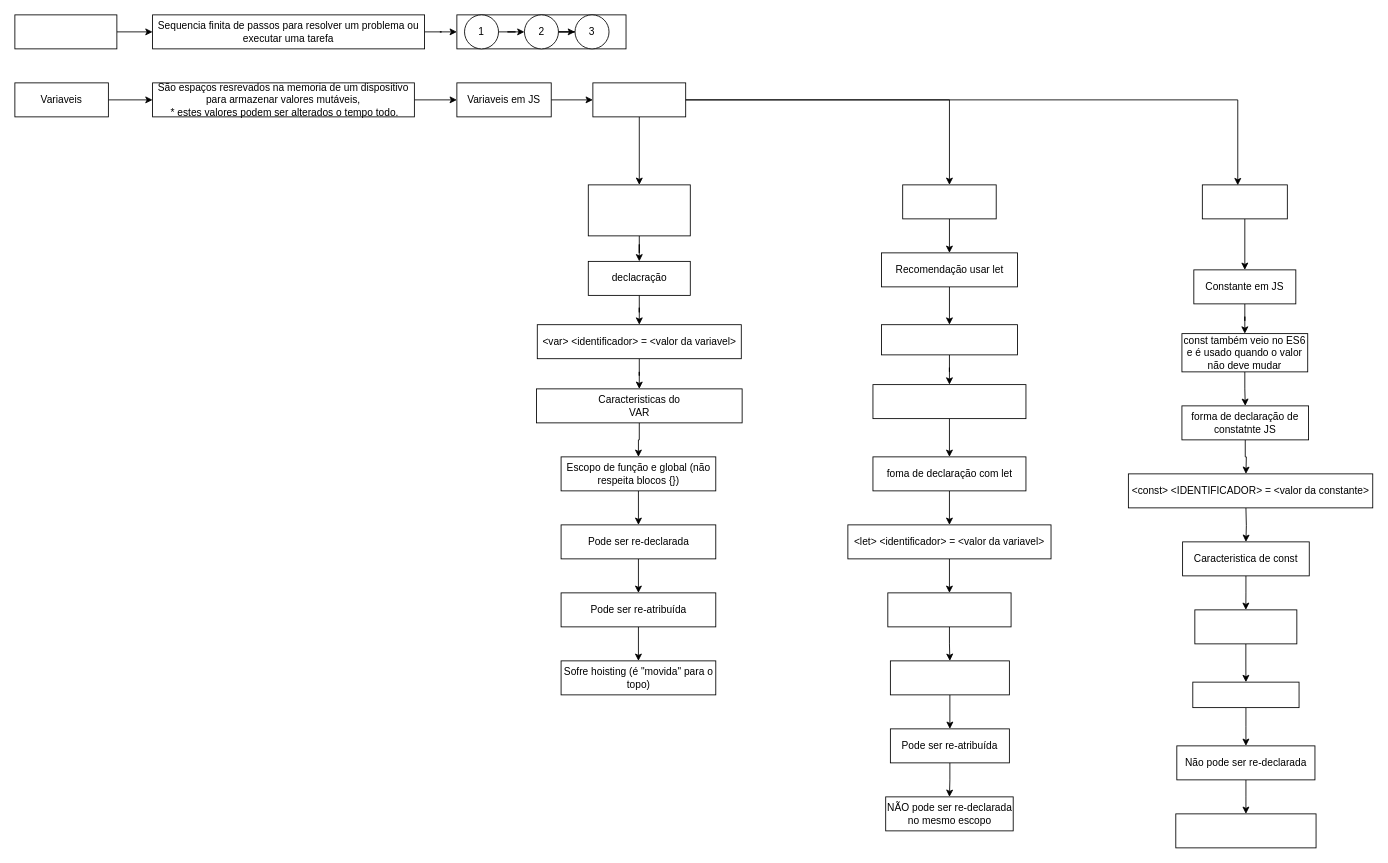
The diagram is 1388 pixels wide and 863 high, and some of its shapes have lost their labels. Each missing label, with the centre of its shape:
Algoritmo: the point at 65,31
Carcateristicas do LET: the point at 949,609
const: the point at 1244,201
Escopo de bloco: the point at 1245,626
Escopo de bloco ({}): the point at 949,677
foi introduzido no ES6 (2015) para corrigir problemas do var: the point at 949,401
let: the point at 949,201
mais moderno e seguro: the point at 949,339
Não pode ser re-atribuída: the point at 1245,694
Precisa ser inicializada na declaração: the point at 1245,830
var (legado): the point at 638,210
var, let e const.: the point at 639,99
